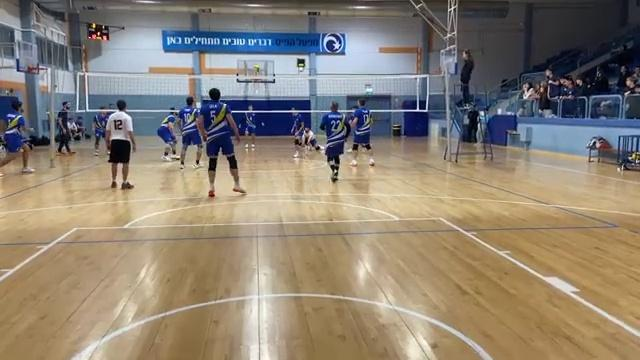ball: (250, 62, 265, 77)
